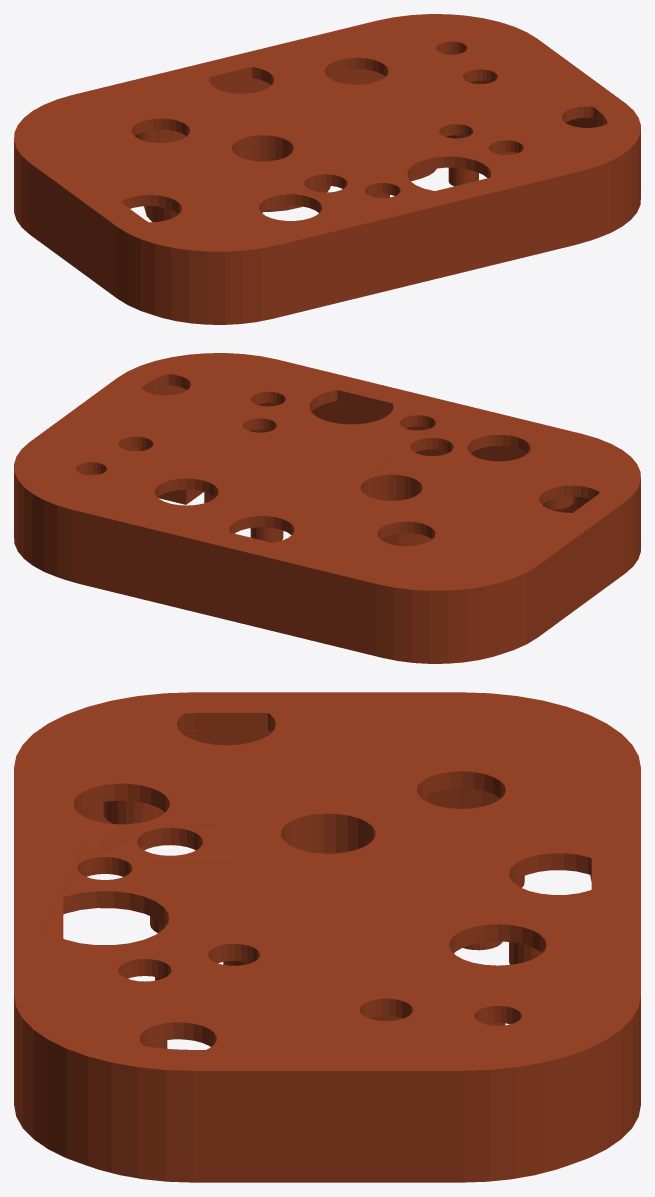
The model's file is SoapHolder.obj.
3 views of the same model, one above another, from view 1: azimuth 30°, elevation 25°; view 2: azimuth 150°, elevation 25°; view 3: azimuth 270°, elevation 25° (orthographic). The views are drawn at different scales.
Parts seen in each view (by area): view 1: polySurface6 SoapDish; view 2: polySurface6 SoapDish; view 3: polySurface6 SoapDish.
Part boxes in pixels (x1,y1,x2,y2): polySurface6 SoapDish: (14,14,640,324); polySurface6 SoapDish: (14,353,640,663); polySurface6 SoapDish: (14,692,640,1182).
Size of the model in its own units: 4.51 by 0.6768 by 3.15.
